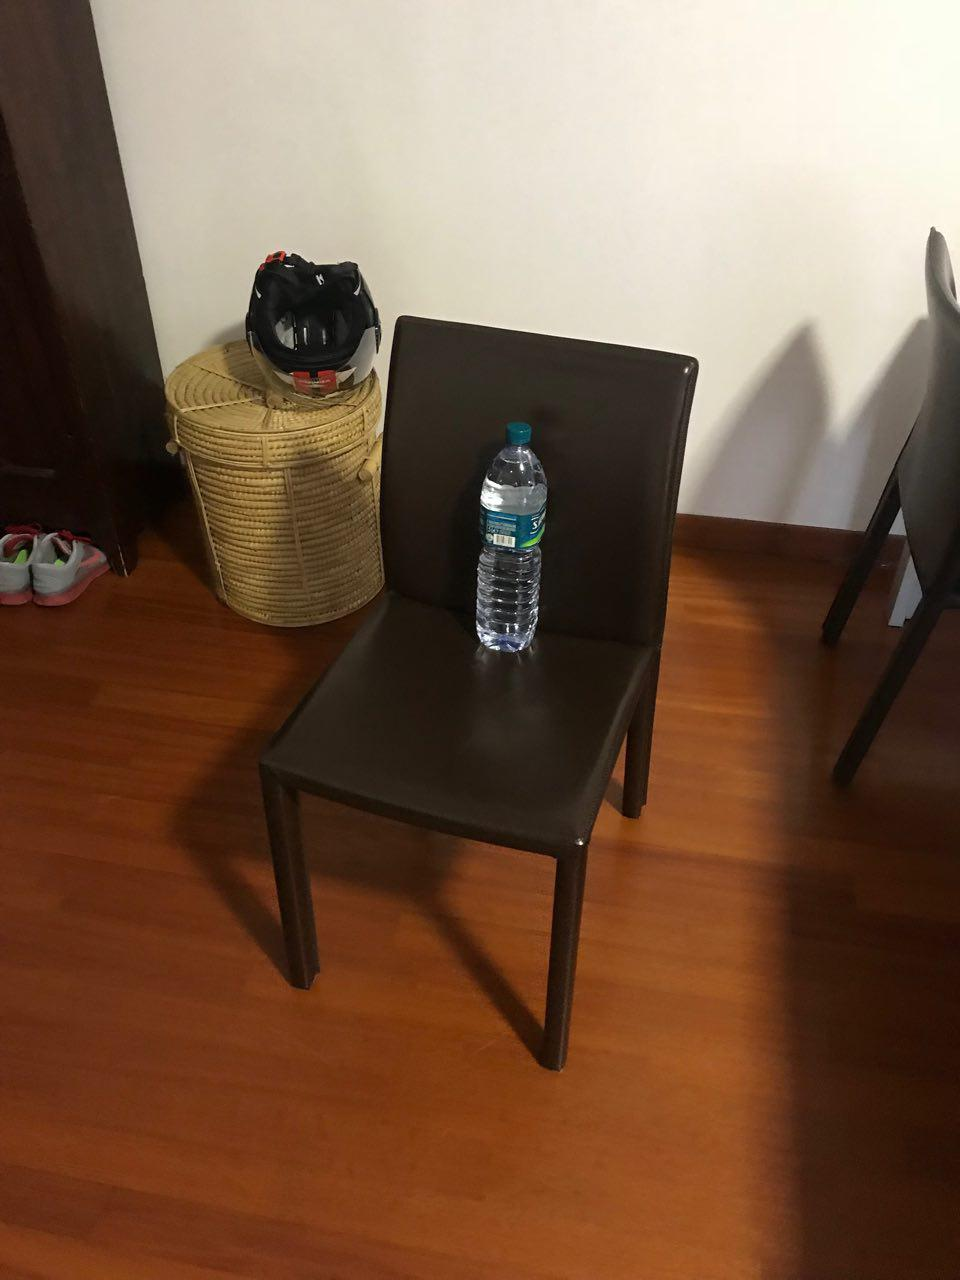san_bernardo: (475, 421, 547, 652)
